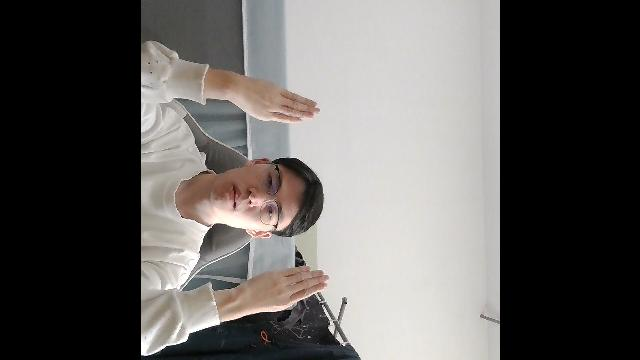four: (228, 73, 322, 126), (236, 263, 330, 315)
